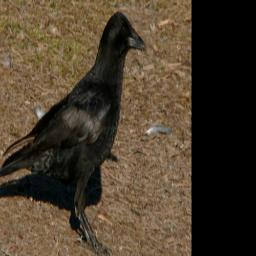Crow: (0, 8, 143, 256)
